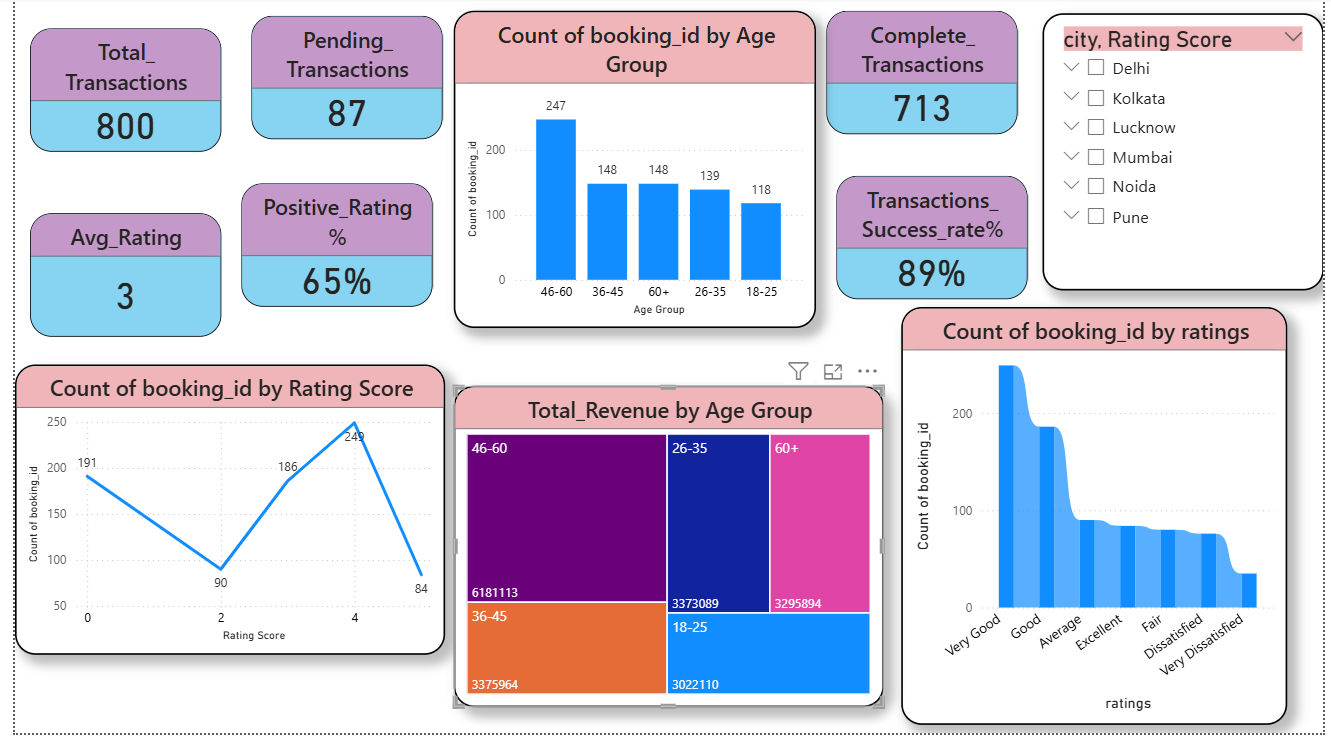

Layout of this report page (visuals, bound fields, positions):
{"tool":"powerbi","page":{"name":"Customer & Transaction Insights","canvas":[1280,720],"ordinal":1},"visuals":[{"type":"card","title":"Complete_ Transactions","fields":{"Values":["All_Measures.Successful Transactions"]},"box":[793.6,13.5,187.1,121.1],"z":0},{"type":"card","title":"Transactions_ Success_rate%","fields":{"Values":["All_Measures.Success Rate %"]},"box":[803.4,174.9,187.1,121.1],"z":1000},{"type":"card","title":"Pending_ Transactions","fields":{"Values":["All_Measures.Failed Transactions"]},"box":[231.1,18.3,187.1,121.1],"z":2000},{"type":"card","title":"Total_ Transactions","fields":{"Values":["All_Measures.Total_Transaction"]},"box":[14.7,30.6,187.1,121.1],"z":3000},{"type":"card","title":"Avg_Rating","fields":{"Values":["All_Measures.Average Rating"]},"box":[14.7,211.6,187.1,121.1],"z":4000},{"type":"card","title":"Positive_Rating %","fields":{"Values":["All_Measures.Positive Rating %"]},"box":[221.3,182.2,187.1,121.1],"z":5000},{"type":"columnChart","fields":{"Category":["users.Age Group"],"Y":["CountNonNull(bookings.booking_id)"]},"box":[429.2,13.5,354.6,310.6],"z":6000},{"type":"ribbonChart","fields":{"Category":["ratings.ratings"],"Y":["CountNonNull(transactions.booking_id)"]},"box":[867,303.3,377.9,408.4],"z":7000},{"type":"lineChart","fields":{"Category":["ratings.Rating Score"],"Y":["CountNonNull(ratings.booking_id)"]},"box":[0,359.5,420.7,283.7],"z":8000},{"type":"treemap","fields":{"Group":["users.Age Group"],"Values":["All_Measures.Total_Revenue"]},"box":[429.2,380.3,420.7,314.3],"z":9000},{"type":"slicer","fields":{"Values":["hotels.city","ratings.Rating Score"]},"box":[1005.2,15.9,275.1,271.5],"z":10000}]}

Visuals, with their boxes in screenshot pixels (x1, y1, x2, y2), scaled from the page's 1280x720 canvas onto the 1331x737 screenshot:
"Complete_ Transactions" card: {"x1": 825, "y1": 14, "x2": 1020, "y2": 138}
"Transactions_ Success_rate%" card: {"x1": 835, "y1": 179, "x2": 1030, "y2": 303}
"Pending_ Transactions" card: {"x1": 240, "y1": 19, "x2": 435, "y2": 143}
"Total_ Transactions" card: {"x1": 15, "y1": 31, "x2": 210, "y2": 155}
"Avg_Rating" card: {"x1": 15, "y1": 217, "x2": 210, "y2": 341}
"Positive_Rating %" card: {"x1": 230, "y1": 187, "x2": 425, "y2": 310}
columnChart - users.Age Group x CountNonNull(bookings.booking_id): {"x1": 446, "y1": 14, "x2": 815, "y2": 332}
ribbonChart - ratings.ratings x CountNonNull(transactions.booking_id): {"x1": 902, "y1": 310, "x2": 1295, "y2": 729}
lineChart - ratings.Rating Score x CountNonNull(ratings.booking_id): {"x1": 0, "y1": 368, "x2": 437, "y2": 658}
treemap - users.Age Group x All_Measures.Total_Revenue: {"x1": 446, "y1": 389, "x2": 884, "y2": 711}
slicer - hotels.city x ratings.Rating Score: {"x1": 1045, "y1": 16, "x2": 1330, "y2": 294}
